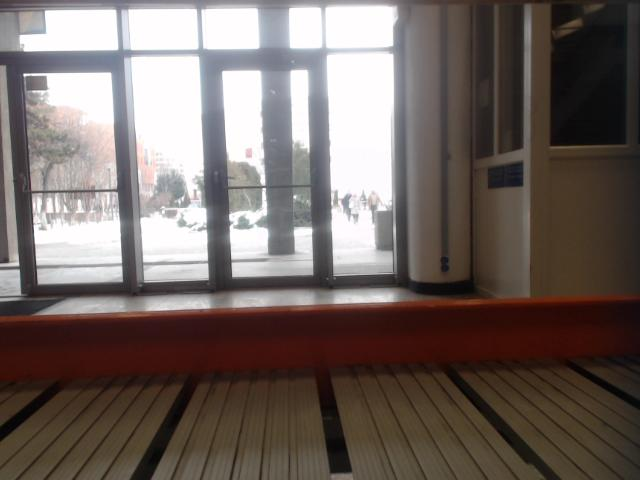rampDown: (0, 296, 639, 479)
